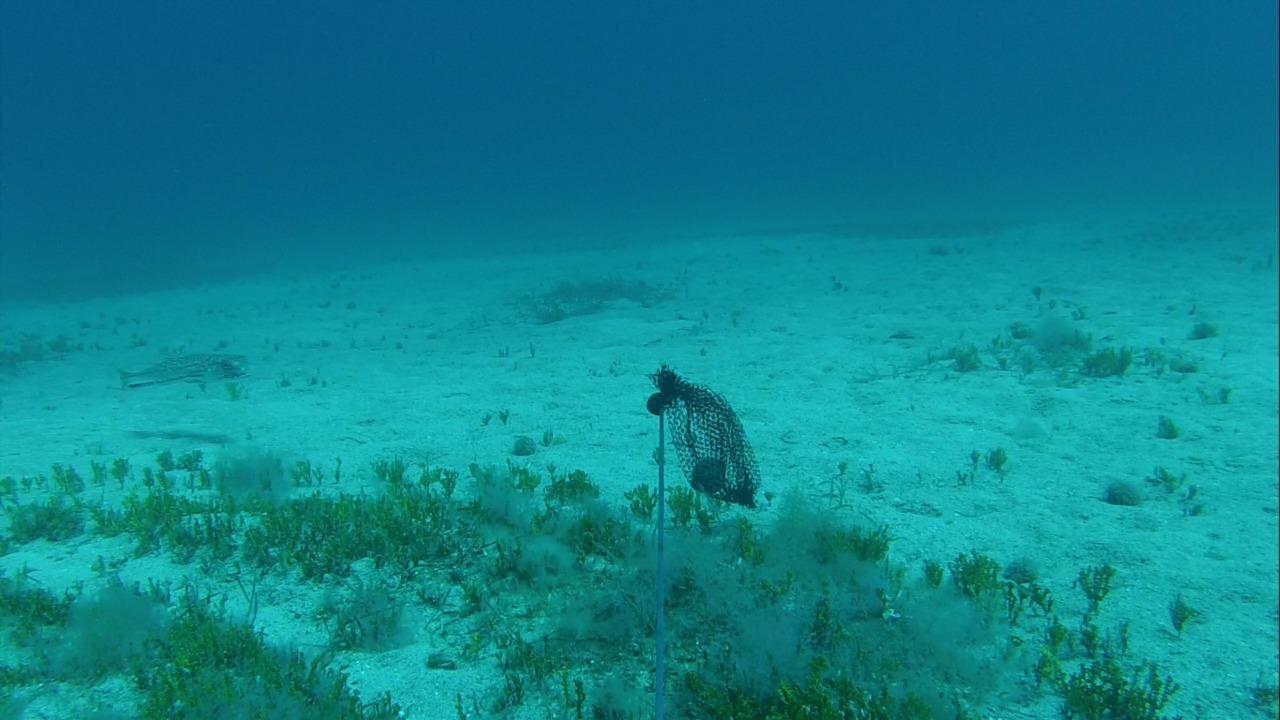dactylopterus: (109, 346, 253, 390)
